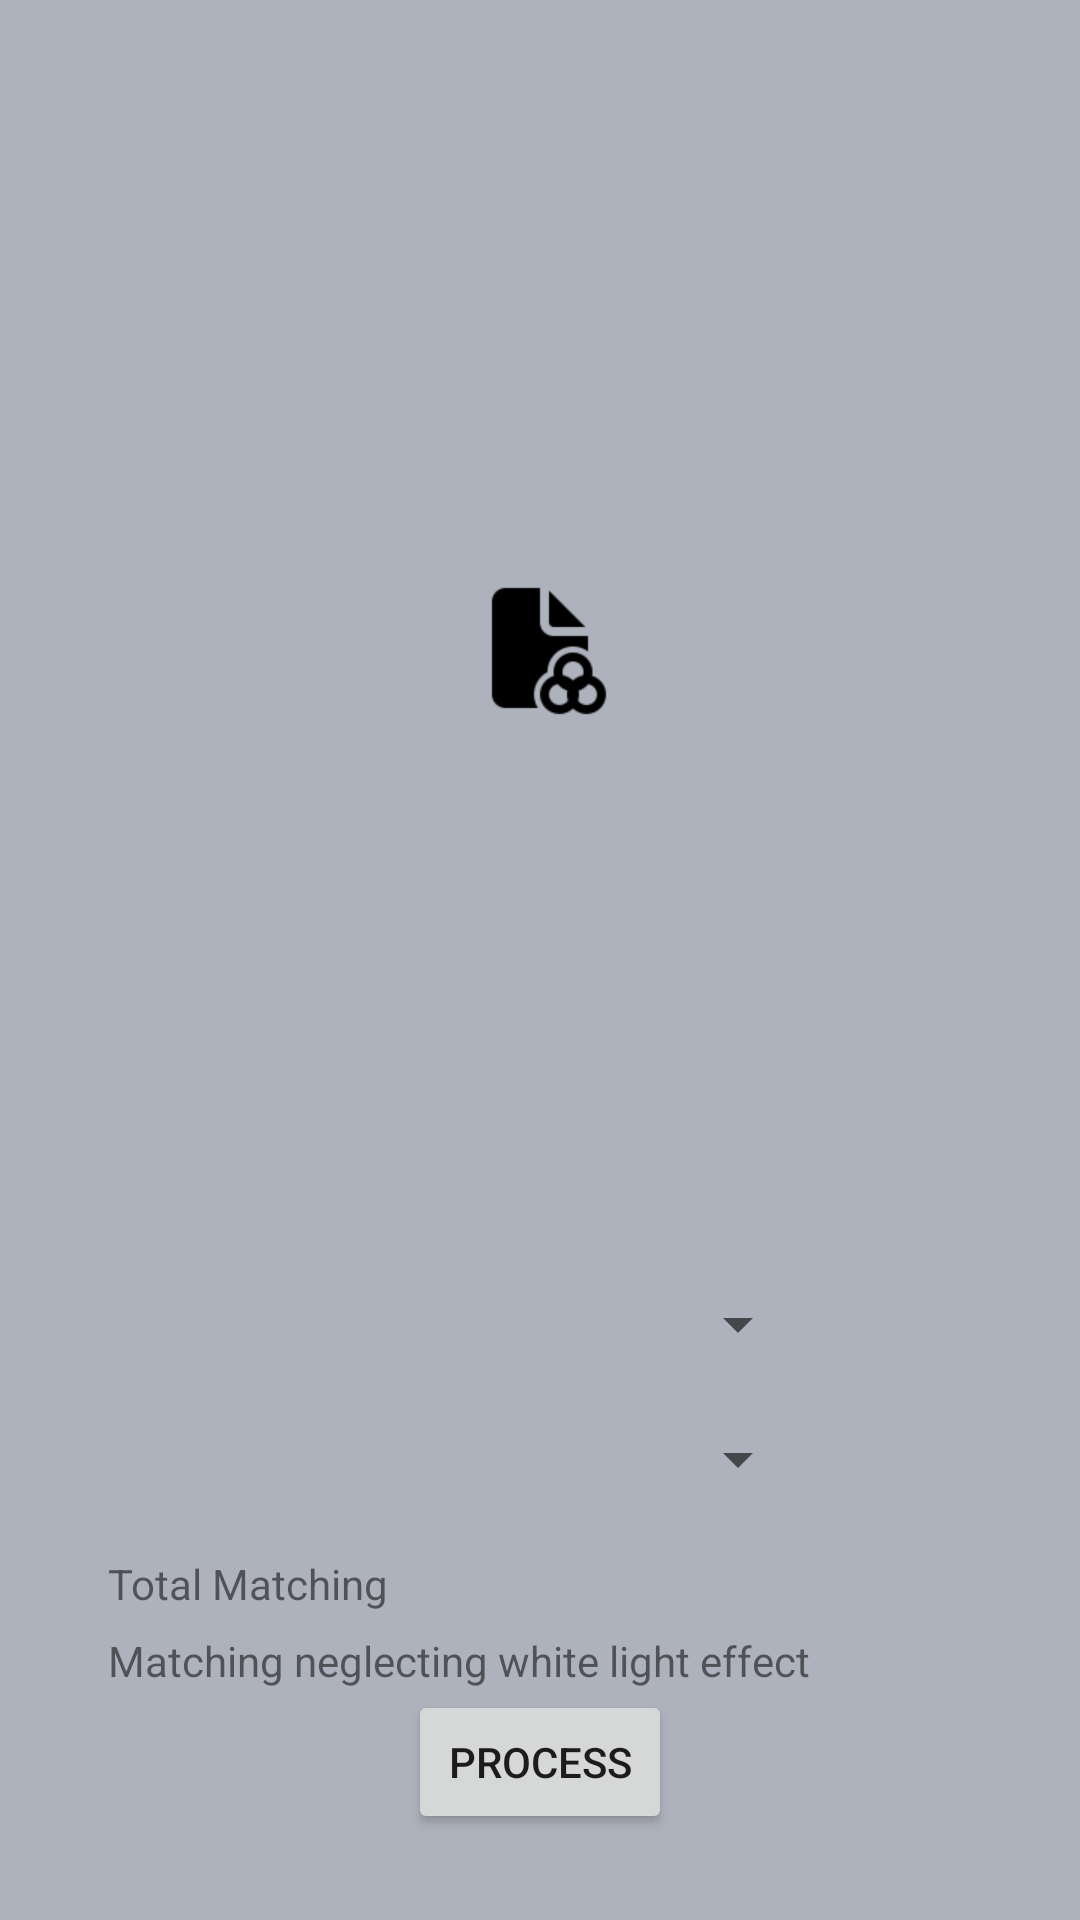

Point at icon controls on the screen. Image size 1080 x 1920, points as (x,y).
col det: (549,651)
